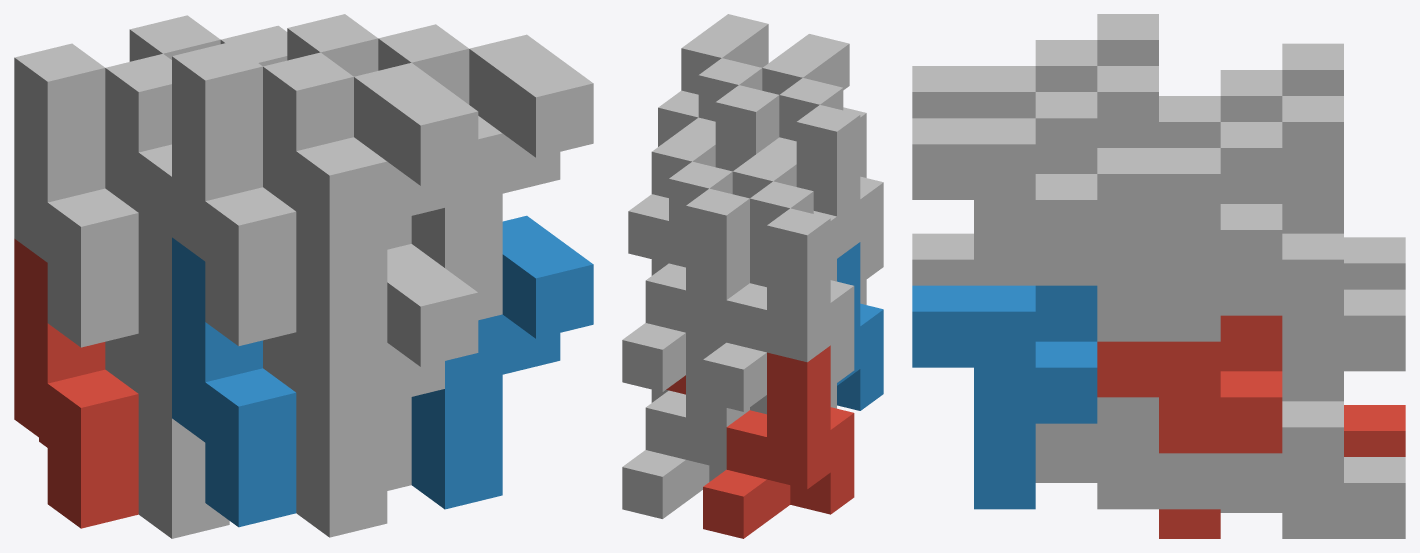
Rendered from tiling.obj.
3 views of the same model, side by side, from view 1: azimuth 30°, elevation 25°; view 2: azimuth 150°, elevation 25°; view 3: azimuth 270°, elevation 25° (orthographic). The views are drawn at different scales.
Parts seen in each view (by area): view 1: copy_2_domain_4, copy_2_domain_2, copy_1_domain_3, copy_1_domain_4, copy_2_domain_8, copy_2_domain_6, copy_1_domain_1, copy_1_domain_2, copy_2_domain_3, copy_2_domain_1, copy_1_domain_8, copy_1_domain_7 (+2 smaller); view 2: copy_1_domain_1, copy_1_domain_3, copy_1_domain_7, copy_1_domain_5, copy_1_domain_4, copy_2_domain_7, copy_2_domain_8, copy_2_domain_4, copy_2_domain_3, copy_1_domain_8, copy_1_domain_2, copy_2_domain_1; view 3: copy_2_domain_6, copy_2_domain_8, copy_1_domain_7, copy_2_domain_7, copy_2_domain_5, copy_1_domain_5, copy_1_domain_8, copy_1_domain_6, copy_2_domain_4, copy_1_domain_3, copy_2_domain_3, copy_2_domain_2 (+2 smaller).
Part boxes in pixels (x1,y1,x2,y2): copy_2_domain_4: (263, 52, 478, 356); copy_2_domain_2: (263, 244, 478, 537); copy_1_domain_3: (14, 43, 138, 347); copy_1_domain_4: (172, 42, 296, 346); copy_2_domain_8: (378, 24, 593, 320); copy_2_domain_6: (411, 215, 593, 509); copy_1_domain_1: (14, 238, 138, 528); copy_1_domain_2: (172, 237, 296, 527); copy_2_domain_3: (105, 54, 171, 357); copy_2_domain_1: (105, 333, 229, 538); copy_1_domain_8: (287, 14, 411, 249); copy_1_domain_7: (129, 15, 220, 61); copy_1_domain_1: (703, 345, 854, 538); copy_1_domain_3: (703, 208, 854, 411); copy_1_domain_7: (622, 188, 749, 391); copy_1_domain_5: (622, 333, 749, 518); copy_1_domain_4: (796, 105, 883, 283); copy_2_domain_7: (628, 117, 732, 267); copy_2_domain_8: (658, 14, 768, 146); copy_2_domain_4: (762, 34, 866, 177); copy_2_domain_3: (732, 137, 836, 287); copy_1_domain_8: (651, 85, 779, 275); copy_1_domain_2: (837, 242, 883, 410); copy_2_domain_1: (750, 383, 836, 414); copy_2_domain_6: (912, 285, 1097, 509); copy_2_domain_8: (912, 92, 1097, 285); copy_1_domain_7: (1220, 96, 1405, 371); copy_2_domain_7: (1097, 122, 1282, 285); copy_2_domain_5: (1097, 315, 1282, 538); copy_1_domain_5: (1220, 371, 1405, 538); copy_1_domain_8: (1035, 66, 1220, 341); copy_1_domain_6: (1035, 397, 1220, 509); copy_2_domain_4: (912, 40, 1097, 118); copy_1_domain_3: (1282, 43, 1405, 289); copy_2_domain_3: (1159, 70, 1282, 147); copy_2_domain_2: (912, 233, 973, 285).
Bounding box in the file's own units: 6 × 8 × 8.
